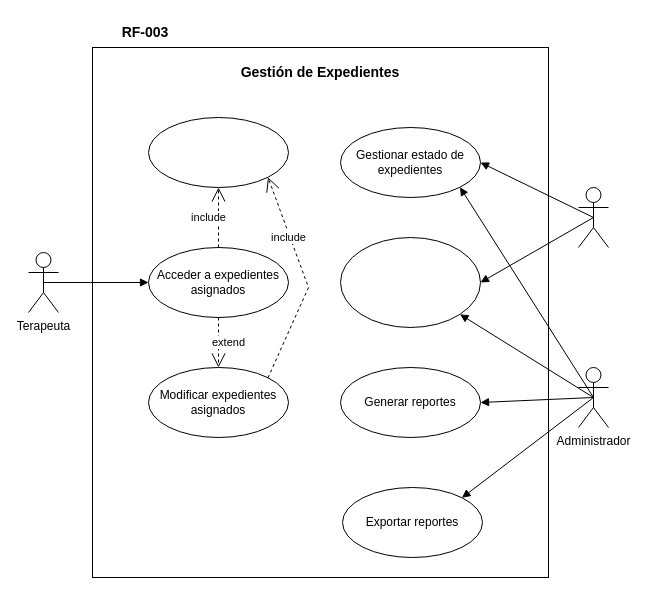
The diagram is 648 pixels wide and 595 high, and some of its shapes have lost their labels. The centre of each missing label's shape, as x and y in pixels:
"Registrar log de acceso" belongs at pixel 218 152.
"Secretaria" belongs at pixel 593 217.
"Visualizar informacion general de los pacientes" belongs at pixel 410 282.
